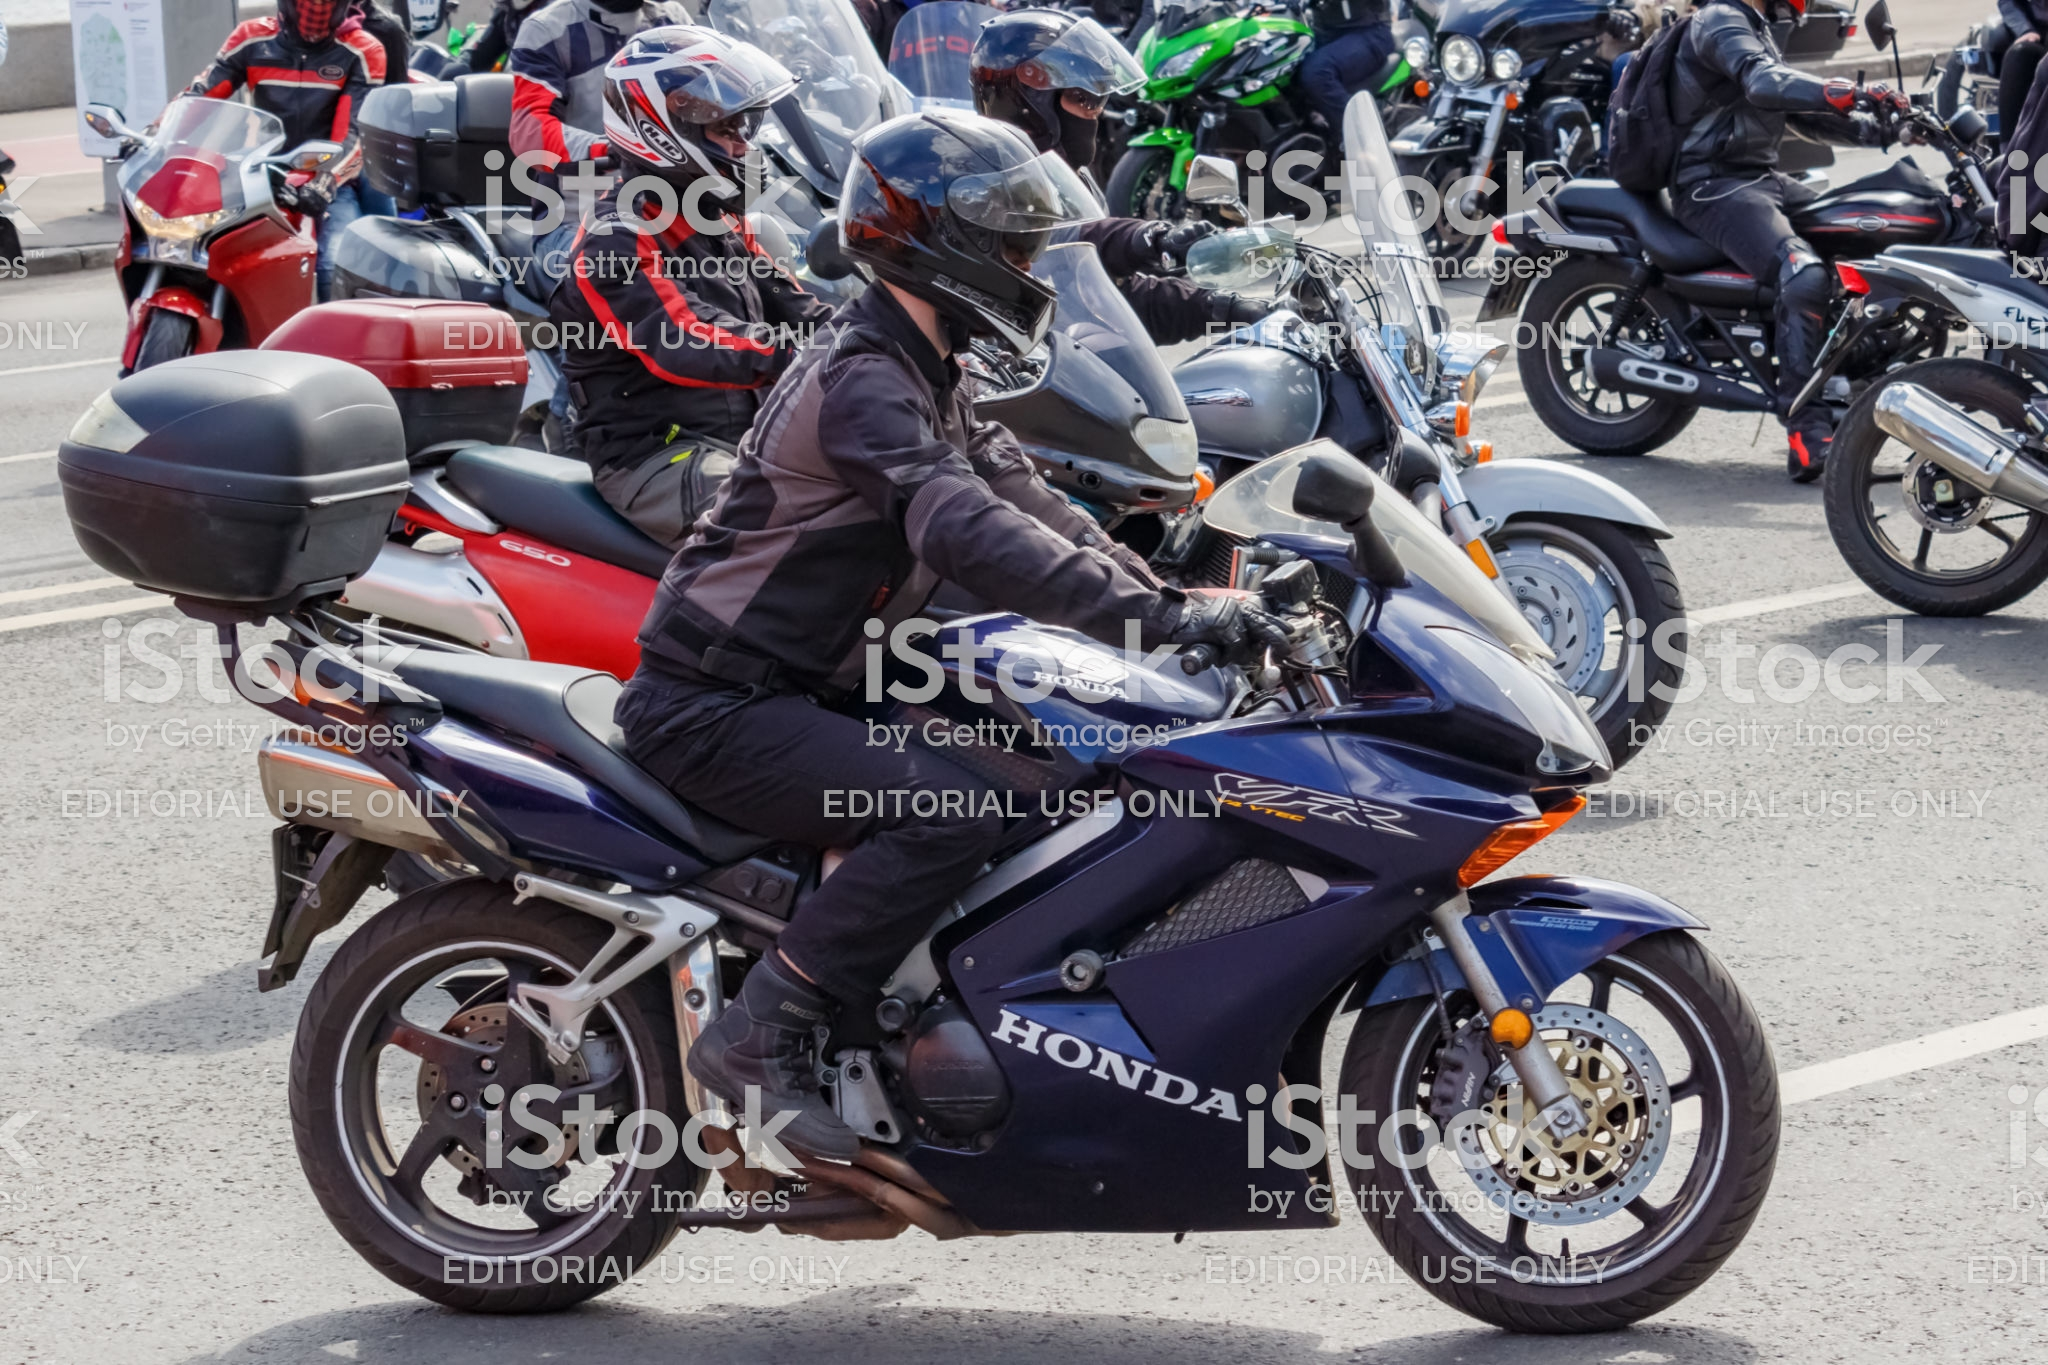helmet: (837, 114, 1069, 334), (579, 24, 805, 177)
